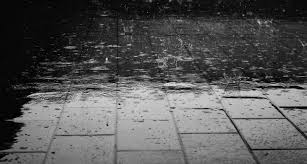Wet-floor: (29, 49, 307, 164)
